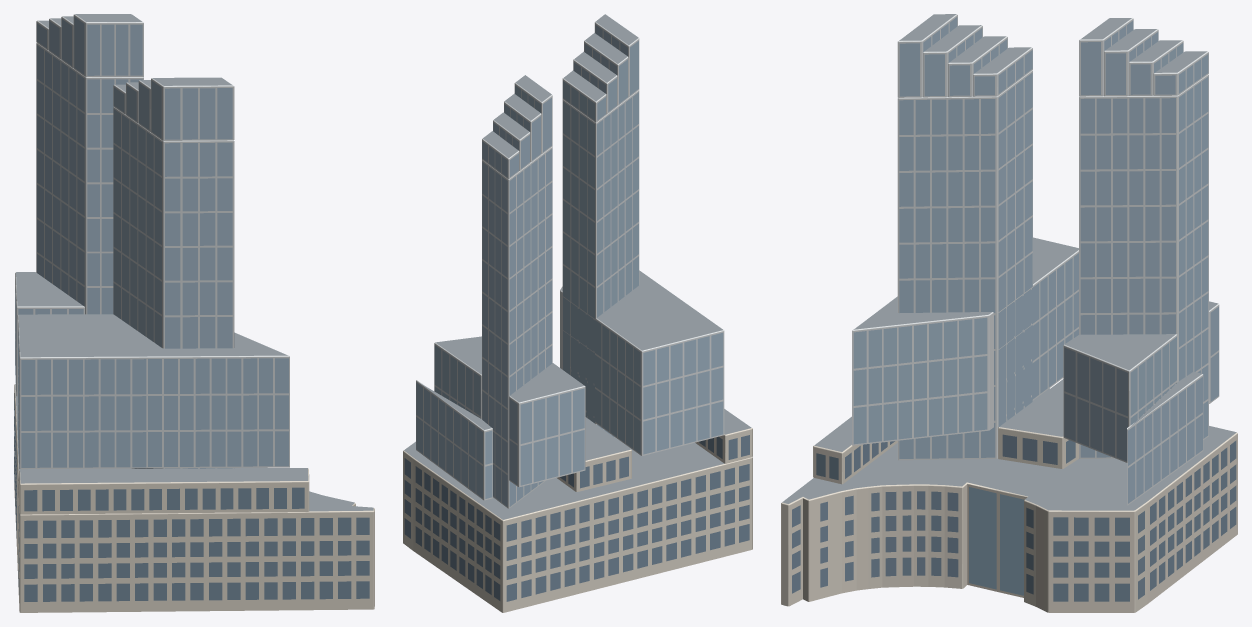
Rendered from detail.glb.
3 views of the same model, side by side, from view 1: azimuth 30°, elevation 25°; view 2: azimuth 150°, elevation 25°; view 3: azimuth 270°, elevation 25° (orthographic). The views are drawn at different scales.
Parts seen in each view (by area): view 1: deutsche-bank-center; view 2: deutsche-bank-center; view 3: deutsche-bank-center.
Part boxes in pixels (<box>): deutsche-bank-center: <box>14,14,374,612</box>; deutsche-bank-center: <box>403,14,752,612</box>; deutsche-bank-center: <box>781,14,1237,612</box>.
Size of the model in its own units: 137 by 230 by 183.
